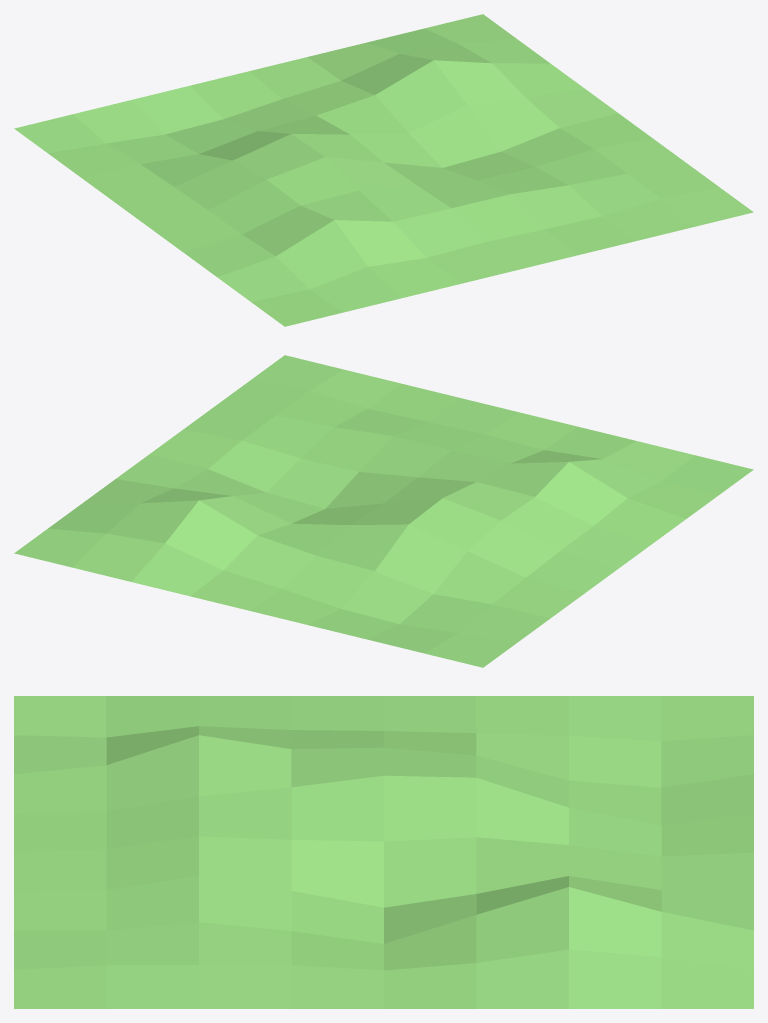
Rendered from Env_Ground_2.fbx.
3 views of the same model, one above another, from view 1: azimuth 30°, elevation 25°; view 2: azimuth 150°, elevation 25°; view 3: azimuth 270°, elevation 25° (orthographic). The views are drawn at different scales.
Visible parts, largest first — view 1: Plane.001; view 2: Plane.001; view 3: Plane.001.
Part boxes in pixels (bbox=[...]): Plane.001: bbox=[14, 14, 753, 326]; Plane.001: bbox=[14, 355, 753, 667]; Plane.001: bbox=[14, 696, 753, 1008].
Size of the model in its own units: 800 by 71.41 by 800.
